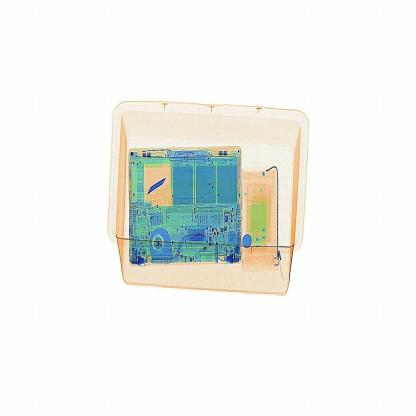pliers: (142, 170, 173, 202)
